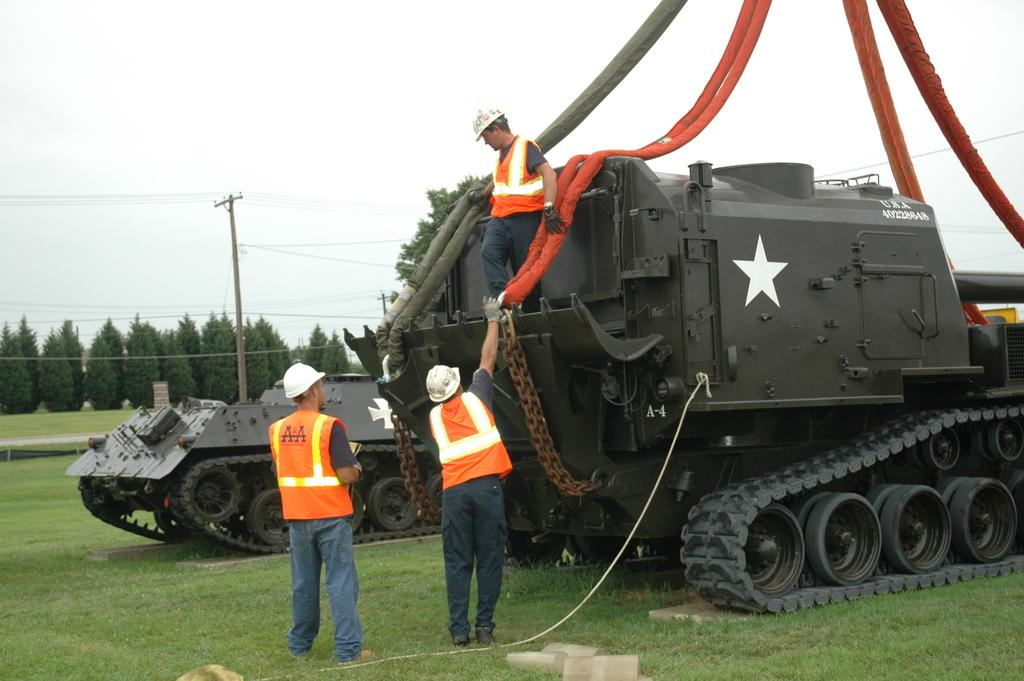Tank: (340, 152, 1023, 614), (65, 369, 445, 558)
